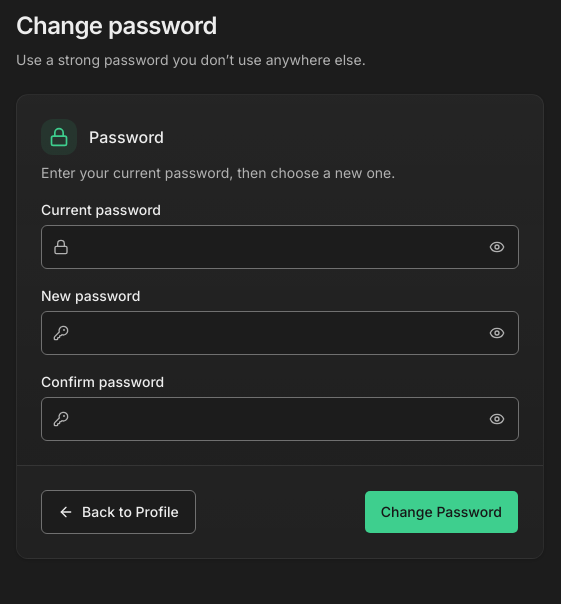
ChangePassword › an empty confirmation is required, gets focus and sends nothing
This screenshot has width=561, height=604.
Type "Old!Passw0rd" into the password field labelled "Current password" at [280, 247], box left=41, top=225, right=519, bottom=269
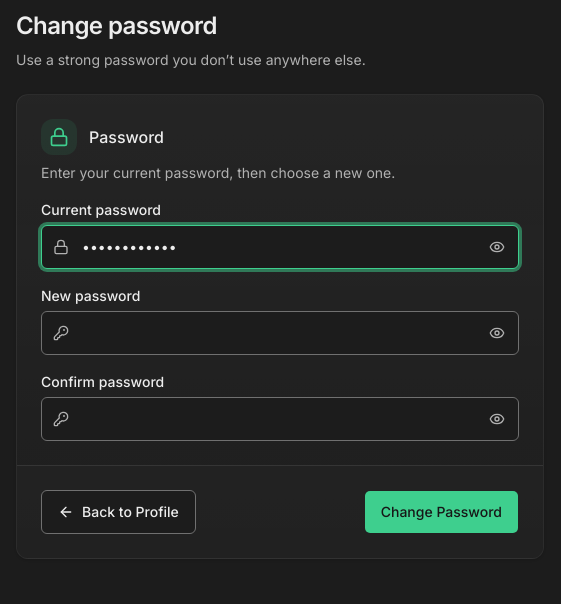
Type "New!Passw0rd#1" into the password field labelled "New password" at [280, 333], box left=41, top=311, right=519, bottom=355
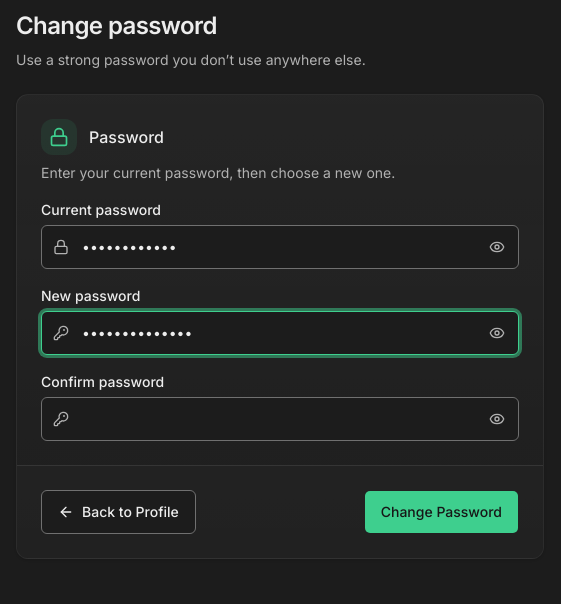
Click the button "Change Password" at [441, 512], box left=364, top=490, right=519, bottom=534
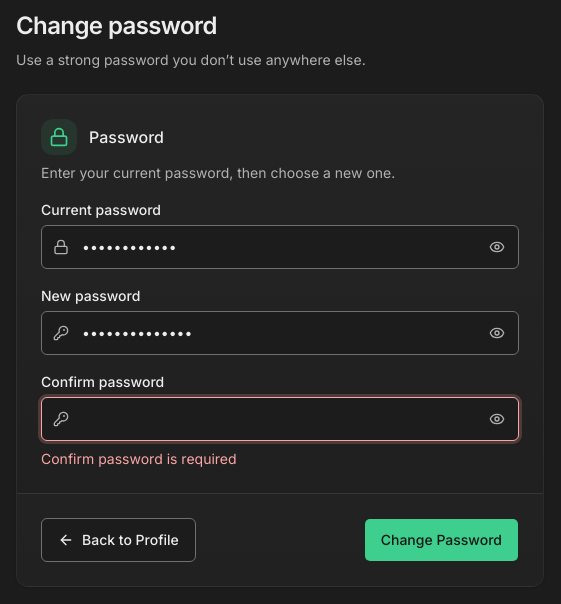
Check: the text "Confirm password is required" is shown, box left=41, top=450, right=237, bottom=467
